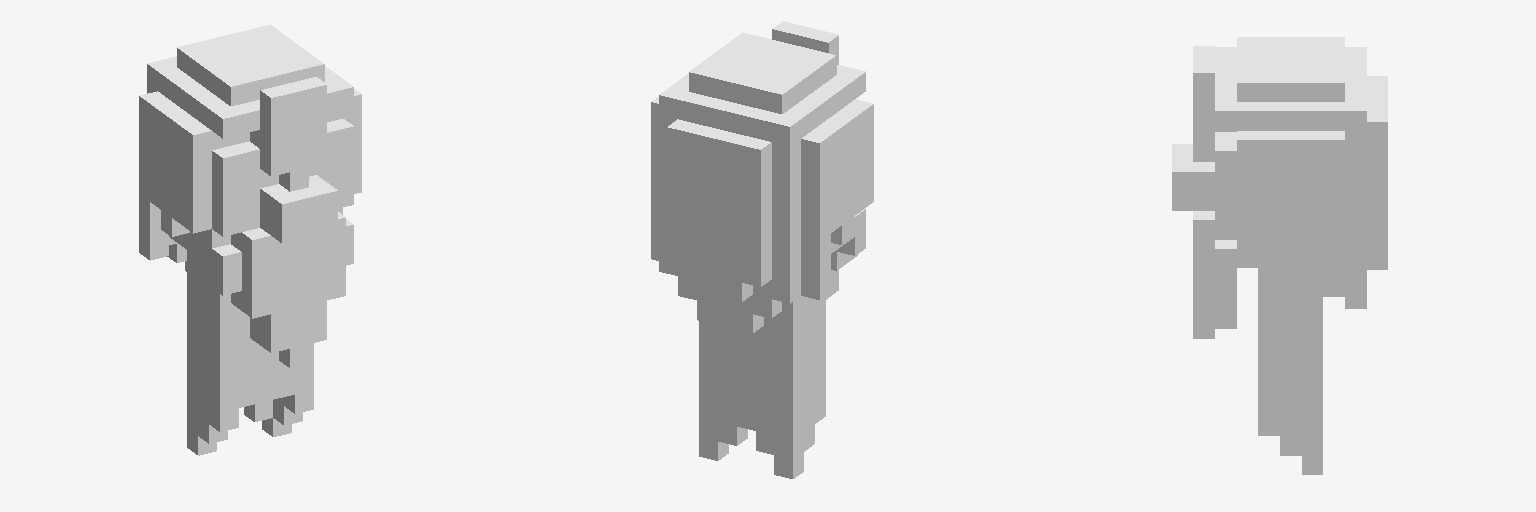
File: gglive_foodman_main.obj
3 views of the same model, side by side, from view 1: azimuth 30°, elevation 25°; view 2: azimuth 150°, elevation 25°; view 3: azimuth 270°, elevation 25° (orthographic).
Parts seen in each view (by area): view 1: gglive_foodman_main; view 2: gglive_foodman_main; view 3: gglive_foodman_main.
Boxes of the visible parts, x1,y1,x2,y2 form: gglive_foodman_main: [139, 25, 361, 455]; gglive_foodman_main: [651, 21, 873, 478]; gglive_foodman_main: [1172, 37, 1387, 474].
Bounding box in the file's own units: 9 × 20 × 10.